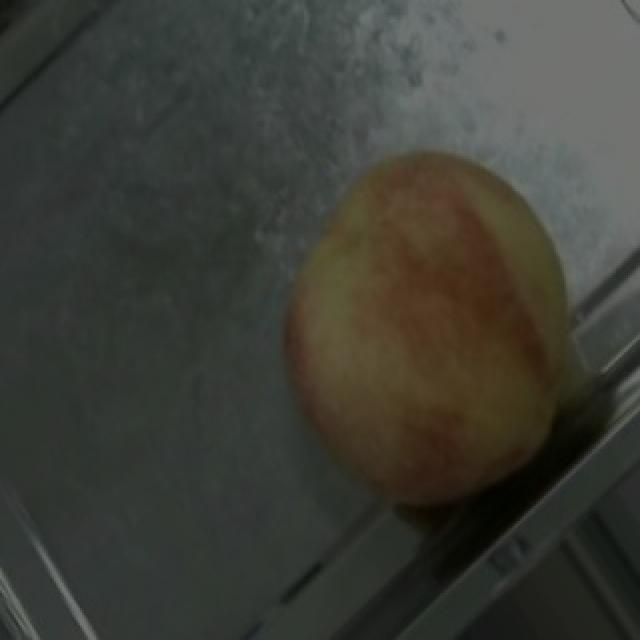Fruit: (252, 110, 620, 462)
